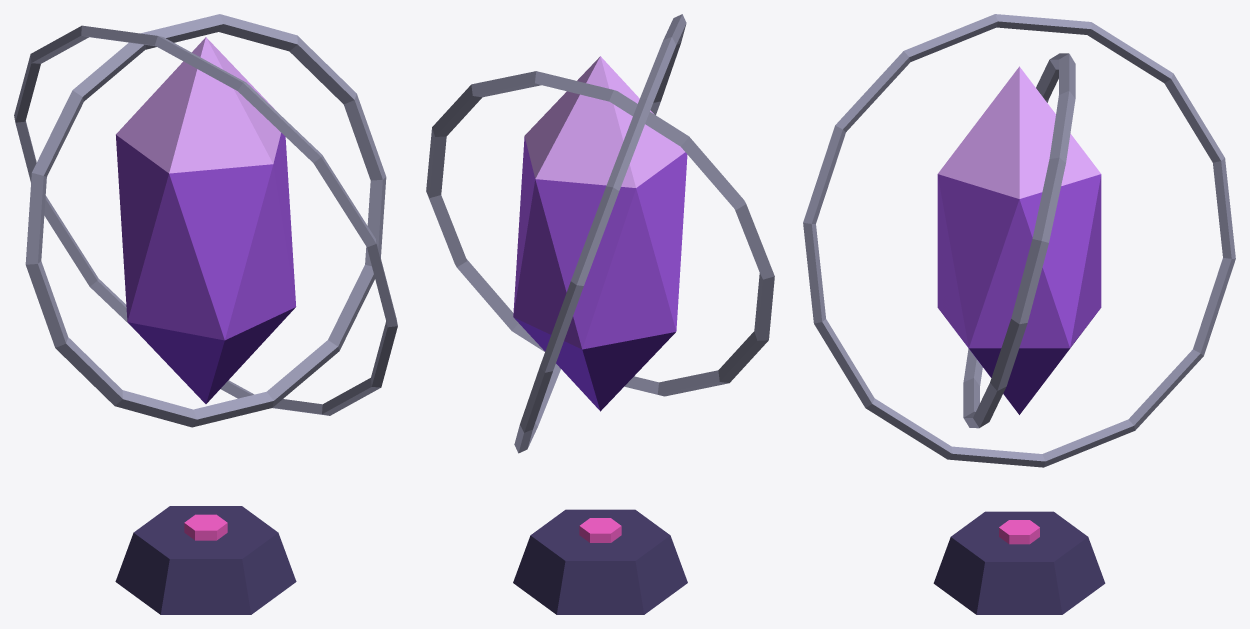
The model's file is Energy_Crystal_Floating.obj.
The picture shows the model from 3 angles, left to right: view 1: azimuth 30°, elevation 25°; view 2: azimuth 150°, elevation 25°; view 3: azimuth 270°, elevation 25°; orthographic projection. The views are drawn at different scales.
Visible parts, largest first — view 1: Energy_Crystal_Floating; view 2: Energy_Crystal_Floating; view 3: Energy_Crystal_Floating.
Boxes of the visible parts, left/top/right/bottom form: Energy_Crystal_Floating: left=14, top=14, right=397, bottom=614; Energy_Crystal_Floating: left=426, top=14, right=774, bottom=614; Energy_Crystal_Floating: left=803, top=14, right=1235, bottom=614.
Size of the model in its own units: 2.3 by 3.47 by 2.52.
Materials: 1 (1 with a texture image).
